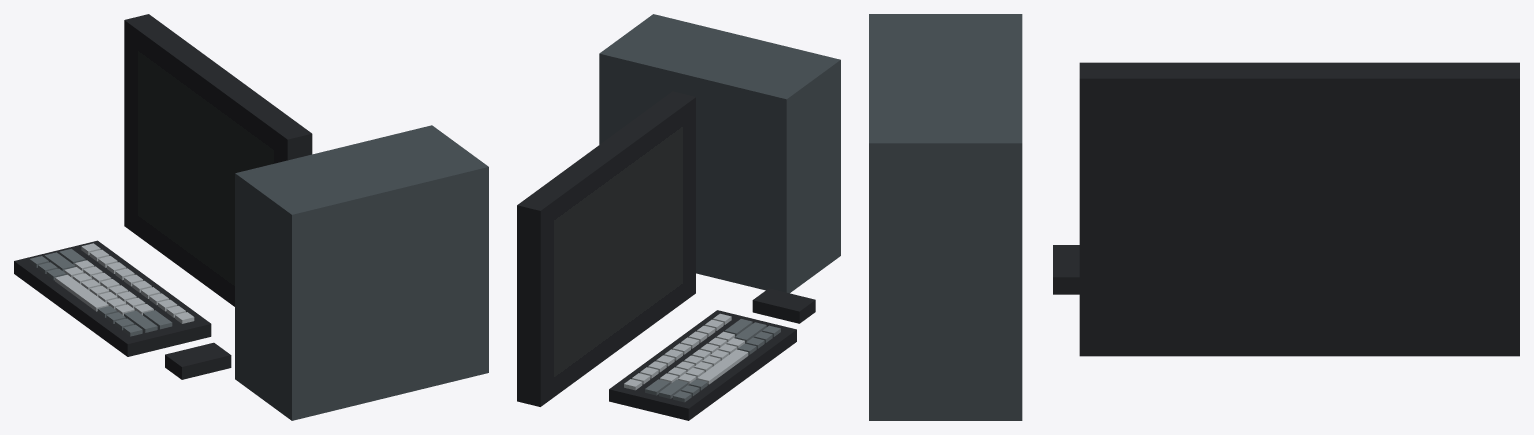
File: computadora.gltf
3 views of the same model, side by side, from view 1: azimuth 30°, elevation 25°; view 2: azimuth 150°, elevation 25°; view 3: azimuth 270°, elevation 25° (orthographic). The views are drawn at different scales.
Parts seen in each view (by area): view 1: cuboid (×3), cube (×2); view 2: cuboid (×3), cube (×4); view 3: cube, cuboid (×2).
Boxes of the visible parts, bbox=[...] form: cuboid (×3): bbox=[14, 125, 488, 420]; cube (×2): bbox=[55, 14, 312, 311]; cuboid (×3): bbox=[599, 14, 840, 420]; cube (×4): bbox=[517, 91, 766, 406]; cube: bbox=[1079, 62, 1519, 356]; cuboid (×2): bbox=[869, 14, 1079, 420].
Bounding box in the file's own units: 0.65 × 0.5 × 1.06.
Materials: 5 (5 with a texture image).
